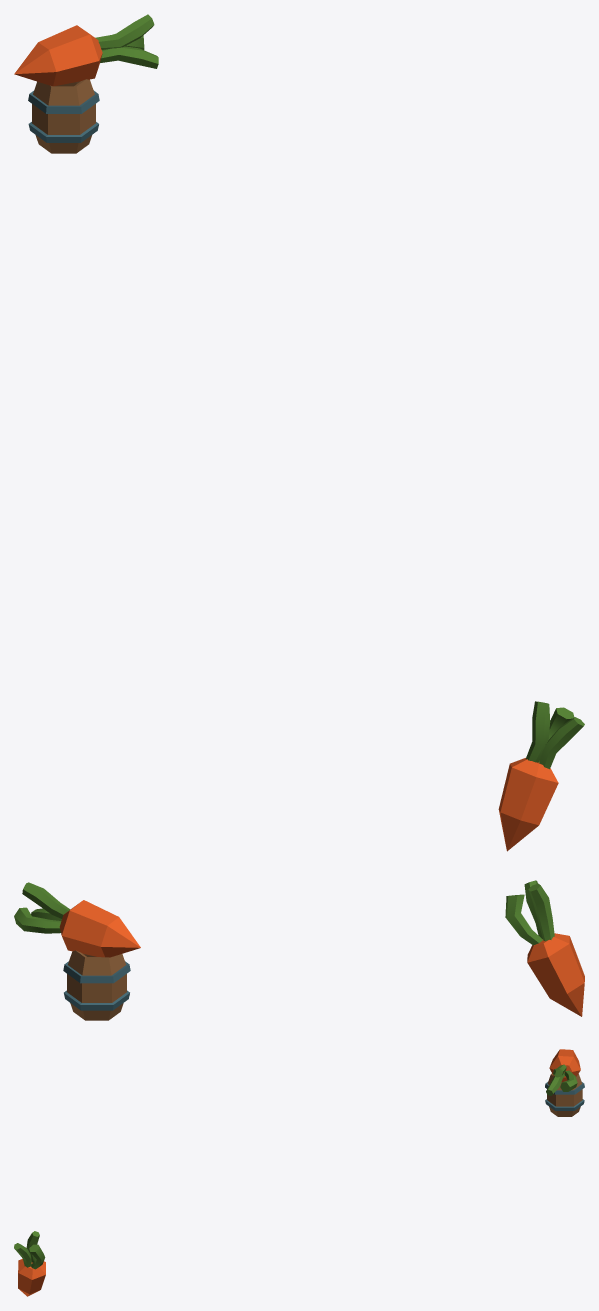
3 views of the same model, one above another, from view 1: azimuth 30°, elevation 25°; view 2: azimuth 150°, elevation 25°; view 3: azimuth 270°, elevation 25° (orthographic). The views are drawn at different scales.
Parts seen in each view (by area): view 1: Line1480_red2_0, Line1460_red2_0, Cylinder1740_brown_0, Line1460_green_0, Line1480_green_0, Cylinder1740_metal_0; view 2: Line1480_red2_0, Line1460_red2_0, Cylinder1740_brown_0, Line1460_green_0, Line1480_green_0, Cylinder1740_metal_0; view 3: Line1460_red2_0, Cylinder1740_brown_0, Line1460_green_0, Line1480_green_0, Line1480_red2_0, Cylinder1740_metal_0.
Boxes of the visible parts, x1,y1,x2,y2 form: Line1480_red2_0: (14, 25, 102, 86); Line1460_red2_0: (498, 758, 558, 851); Cylinder1740_brown_0: (32, 79, 95, 153); Line1460_green_0: (526, 701, 584, 769); Line1480_green_0: (95, 14, 158, 68); Cylinder1740_metal_0: (28, 90, 99, 142); Line1480_red2_0: (59, 900, 140, 957); Line1460_red2_0: (527, 933, 584, 1016); Cylinder1740_brown_0: (67, 950, 126, 1020); Line1460_green_0: (505, 880, 554, 945); Line1480_green_0: (14, 882, 69, 933); Cylinder1740_metal_0: (63, 961, 130, 1010); Line1460_red2_0: (18, 1259, 45, 1296); Cylinder1740_brown_0: (547, 1073, 582, 1116); Line1460_green_0: (14, 1231, 45, 1269); Line1480_green_0: (546, 1064, 577, 1095); Line1480_red2_0: (549, 1049, 580, 1081); Cylinder1740_metal_0: (545, 1082, 584, 1110).
Bounding box in the file's own units: 136 × 454 × 908.
